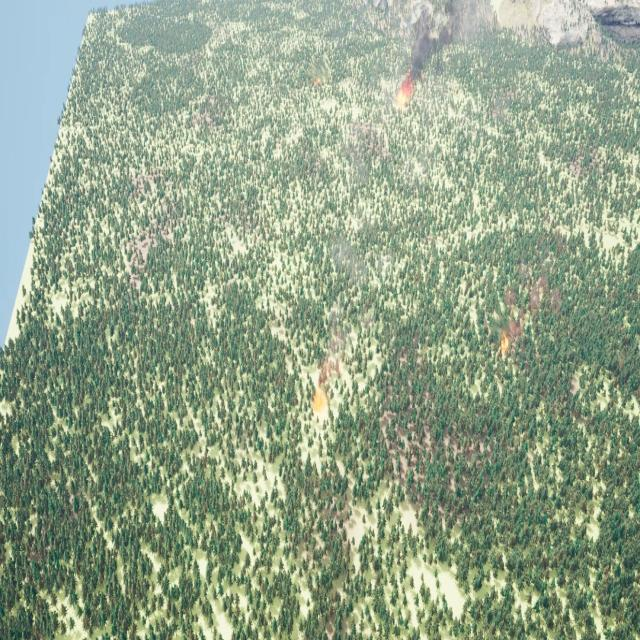fire: (308, 391, 328, 416), (396, 83, 413, 105), (500, 333, 509, 353)
smoke: (409, 14, 459, 83)
